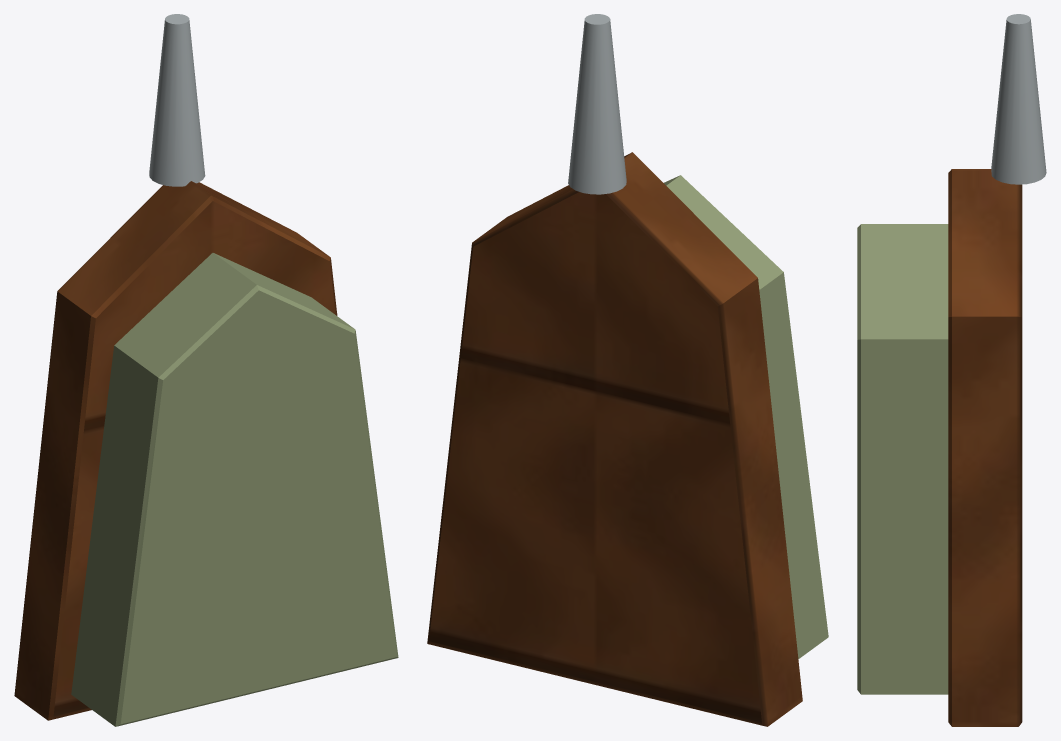
Rendered from wilderness-survival-camp-hand-bellows-8c86e5f6__21962.glb.
3 renders of one model, left to right at view 1: azimuth 30°, elevation 25°; view 2: azimuth 150°, elevation 25°; view 3: azimuth 270°, elevation 25°, orthographic. The views are drawn at different scales.
Parts seen in each view (by area): view 1: hand-bellows; view 2: hand-bellows; view 3: hand-bellows.
Boxes of the visible parts, left/top/right/bottom form: hand-bellows: left=14, top=14, right=398, bottom=726; hand-bellows: left=427, top=14, right=828, bottom=726; hand-bellows: left=857, top=14, right=1046, bottom=726.
Bounding box in the file's own units: 0.3063 × 0.5728 × 0.156.
Materials: 3 (1 with a texture image).
